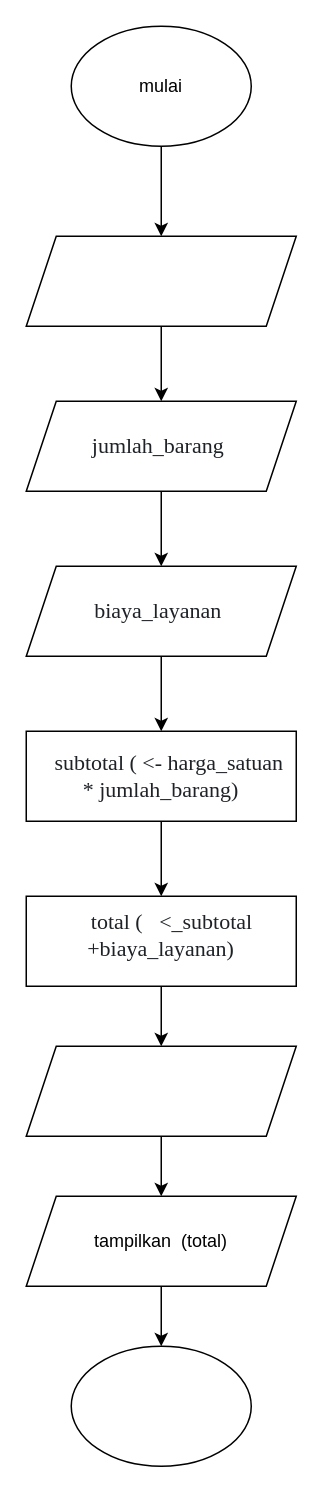
Image size: 323x1493. Some labels were removed from this diagram. Each missing label, with the centre of its shape:
"harga_satuan" goes at (x=160, y=280).
"selesai" goes at (x=160, y=1405).
"tampilkan (subtotal)" goes at (x=160, y=1090).
